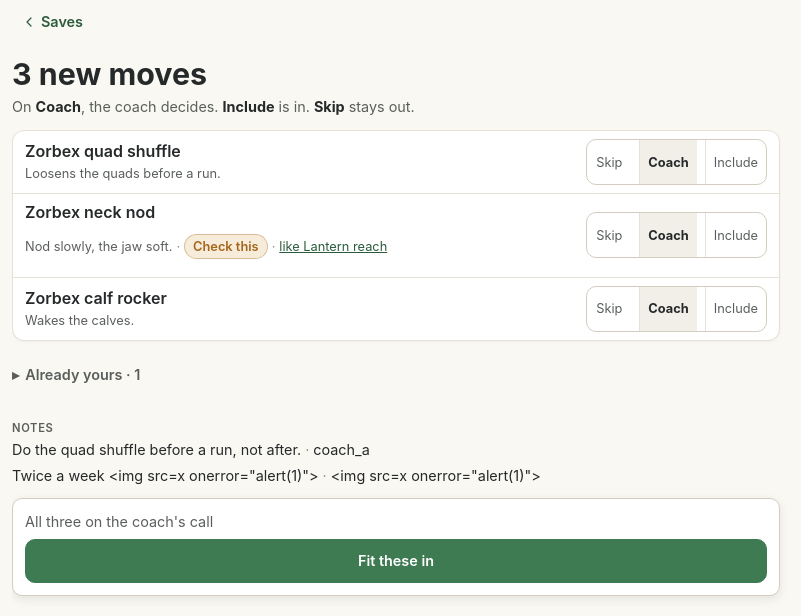
Test: a batch's page (the saves flow redesigned §3.3) › like {name} merges in one tap
Click the button "like Lantern reach" at [333, 247], box [279,225,387,269]
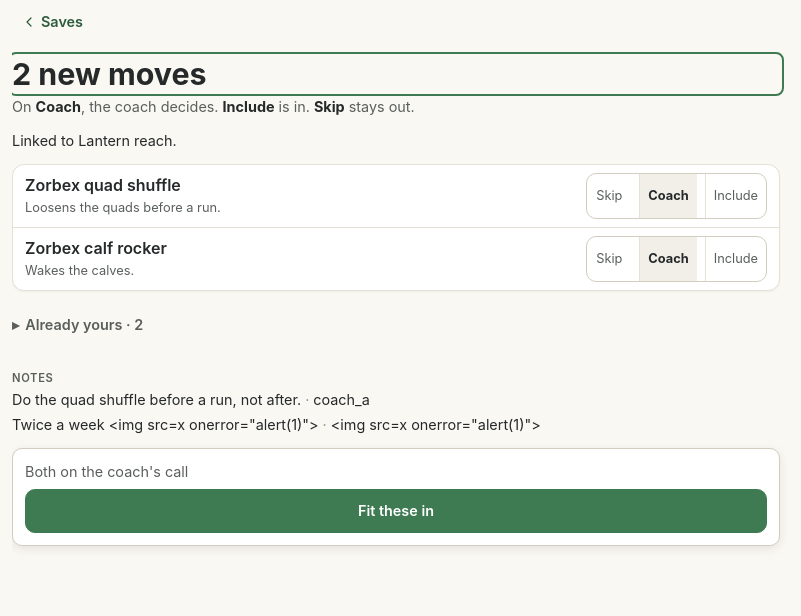
Check: the heading "2 new moves" is shown, box [12,56,207,92]
Check: the button "▸ Already yours · 2" is shown, box [12,303,143,347]
Check: the text with class "stu-save-tally" reads "Both on the coach's call", box [25,463,188,480]
